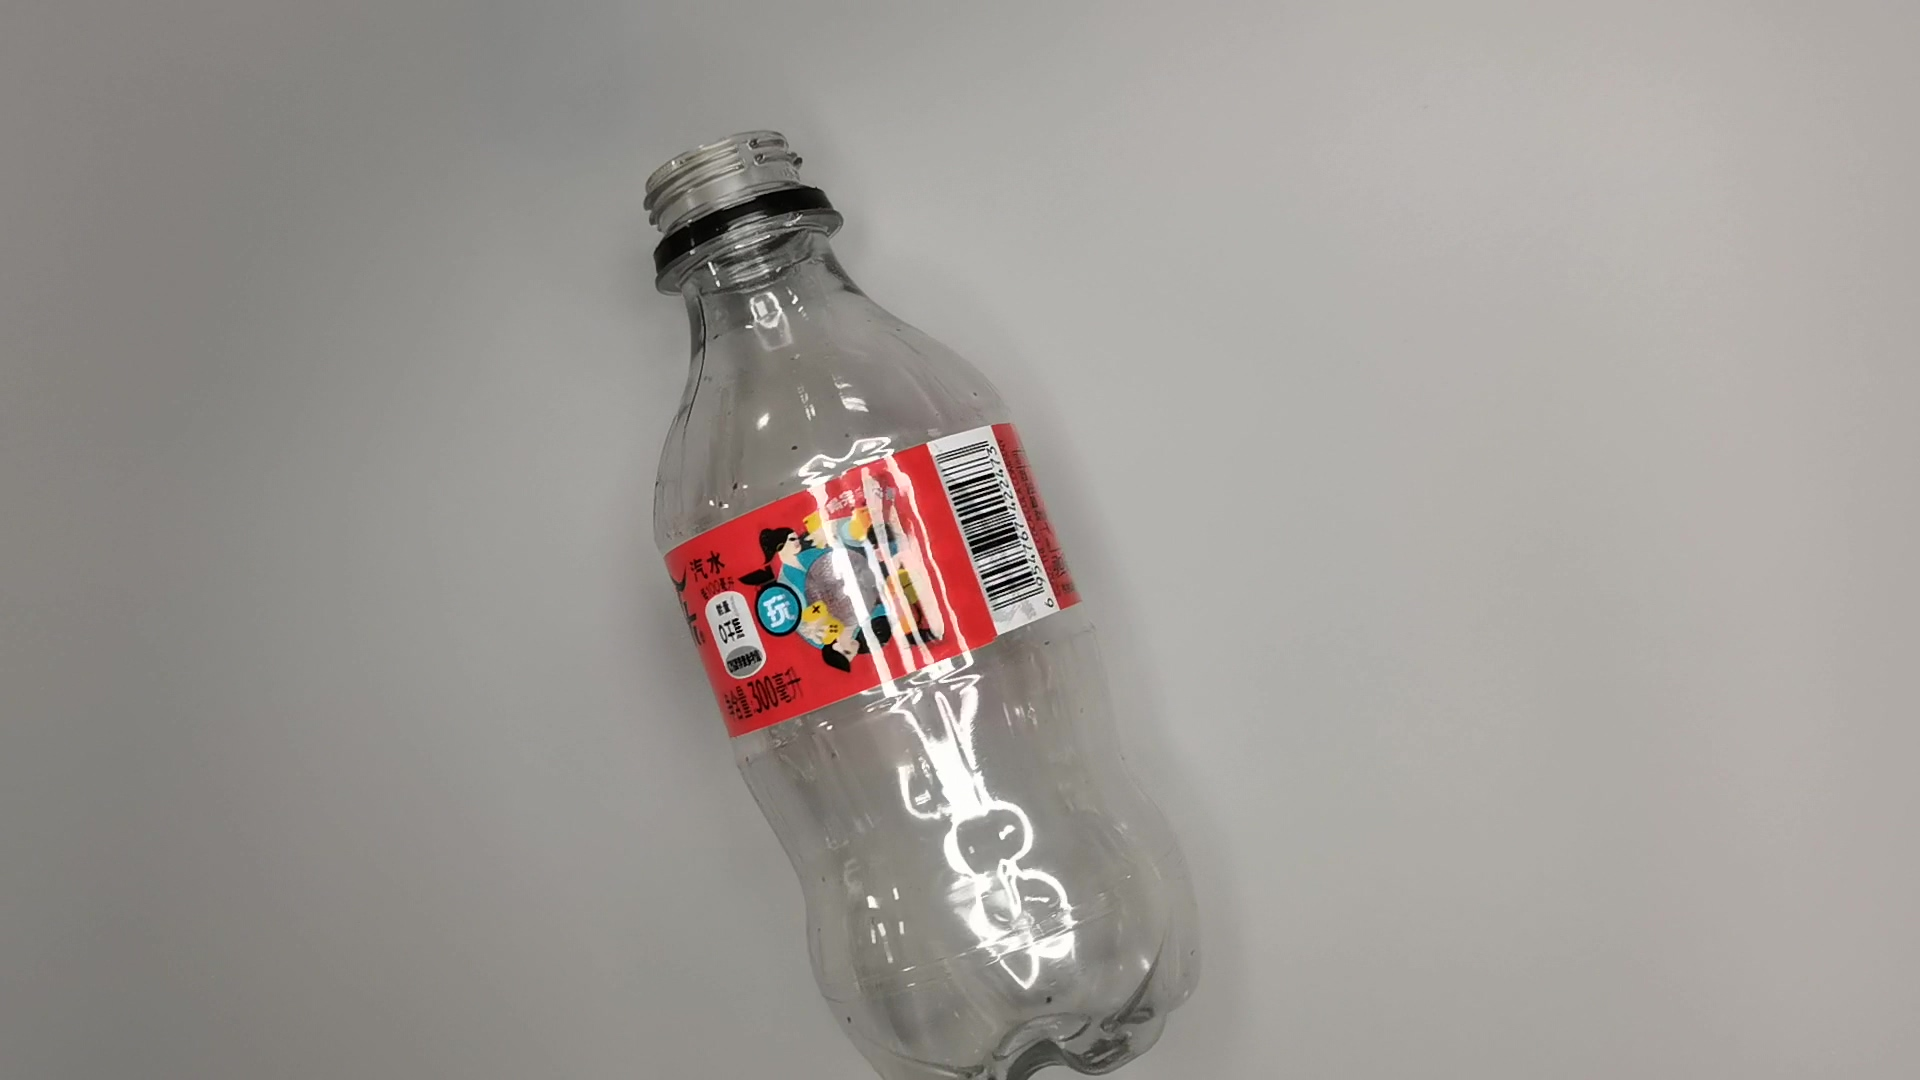bottle: (622, 123, 1217, 1080)
